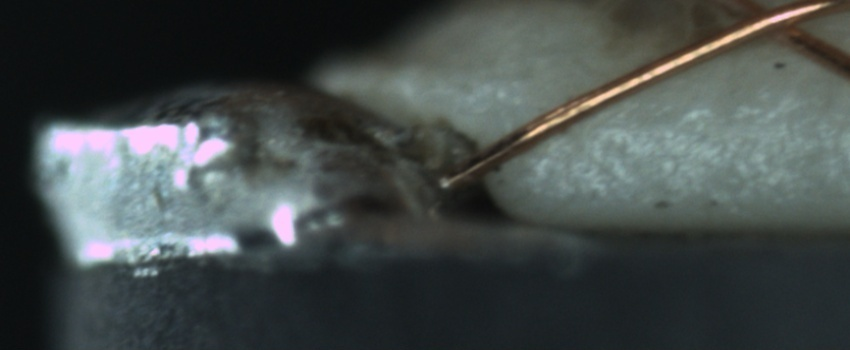CL: (696, 2, 832, 54)
DL: (565, 90, 833, 153)
